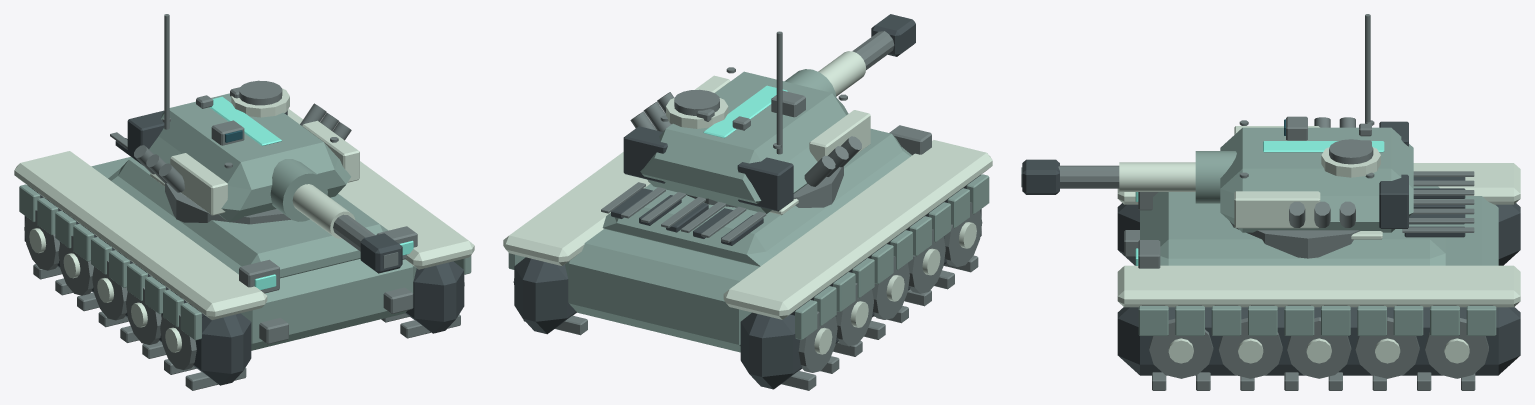
The model's file is tank.glb.
The picture shows the model from 3 angles, left to right: view 1: azimuth 30°, elevation 25°; view 2: azimuth 150°, elevation 25°; view 3: azimuth 270°, elevation 25°; orthographic projection. The views are drawn at different scales.
Visible parts, largest first — view 1: Fender, TurretArmor, UpperHull, LowerHull, Fender.001, TrackBelt, TrackBelt.001, Detail cheek armor, Detail gun mantlet, TurretRing, Detail thermal sleeve, Detail cheek armor.001 (+30 smaller); view 2: Fender, LowerHull, TurretArmor, UpperHull, Fender.001, TrackBelt, TrackBelt.001, Detail stowage, Detail cheek armor, Detail stowage.001, TurretRing, Detail thermal sleeve (+28 smaller); view 3: Fender.001, TurretArmor, UpperHull, TrackBelt.001, LowerHull, Detail cheek armor.001, Fender, Detail thermal sleeve, TurretRing, TrackBelt, RoadWheel.005, RoadWheel.008 (+30 smaller).
Boxes of the visible parts, x1=… form: Fender: x1=14, y1=151, x2=267, y2=319; TurretArmor: x1=149, y1=93, x2=350, y2=222; UpperHull: x1=108, y1=158, x2=388, y2=278; LowerHull: x1=91, y1=157, x2=416, y2=350; Fender.001: x1=287, y1=109, x2=474, y2=269; TrackBelt: x1=24, y1=216, x2=251, y2=385; TrackBelt.001: x1=405, y1=261, x2=464, y2=333; Detail cheek armor: x1=170, y1=153, x2=227, y2=215; Detail gun mantlet: x1=270, y1=159, x2=327, y2=221; TurretRing: x1=165, y1=183, x2=290, y2=224; Detail thermal sleeve: x1=292, y1=184, x2=355, y2=238; Detail cheek armor.001: x1=302, y1=120, x2=359, y2=182; Fender: x1=723, y1=140, x2=992, y2=319; LowerHull: x1=564, y1=229, x2=759, y2=352; TurretArmor: x1=640, y1=71, x2=848, y2=213; UpperHull: x1=602, y1=128, x2=911, y2=266; Fender.001: x1=503, y1=128, x2=656, y2=265; TrackBelt: x1=740, y1=209, x2=981, y2=389; TrackBelt.001: x1=514, y1=257, x2=576, y2=334; Detail stowage: x1=737, y1=157, x2=793, y2=211; Detail cheek armor: x1=809, y1=110, x2=870, y2=161; Detail stowage.001: x1=623, y1=126, x2=667, y2=183; TurretRing: x1=686, y1=166, x2=843, y2=207; Detail thermal sleeve: x1=818, y1=51, x2=865, y2=96; Fender.001: x1=1117, y1=265, x2=1520, y2=307; TurretArmor: x1=1220, y1=127, x2=1413, y2=232; UpperHull: x1=1153, y1=186, x2=1445, y2=265; TrackBelt.001: x1=1117, y1=307, x2=1520, y2=375; LowerHull: x1=1140, y1=196, x2=1498, y2=265; Detail cheek armor.001: x1=1234, y1=191, x2=1320, y2=228; Fender: x1=1117, y1=163, x2=1520, y2=204; Detail thermal sleeve: x1=1119, y1=162, x2=1195, y2=191; TurretRing: x1=1230, y1=221, x2=1359, y2=258; TrackBelt: x1=1117, y1=203, x2=1520, y2=265; RoadWheel.005: x1=1149, y1=318, x2=1213, y2=378; RoadWheel.008: x1=1355, y1=317, x2=1419, y2=378.
Bounding box in the file's own units: 3 × 2.83 × 4.52.
